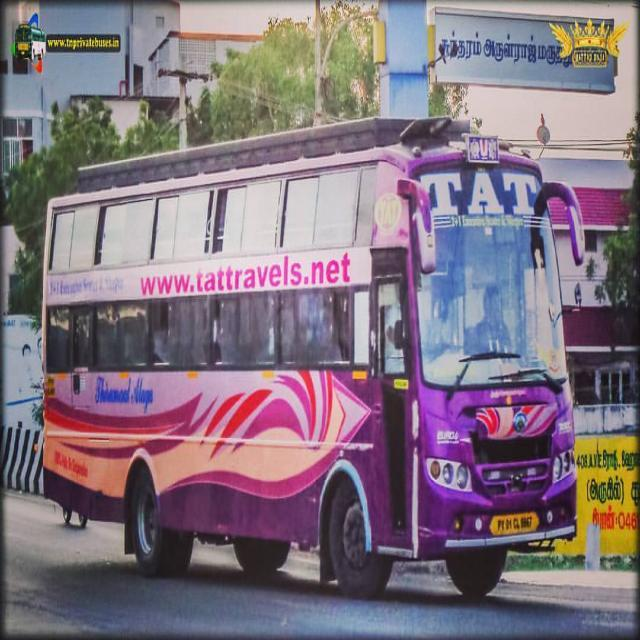Bus: (37, 110, 590, 618)
